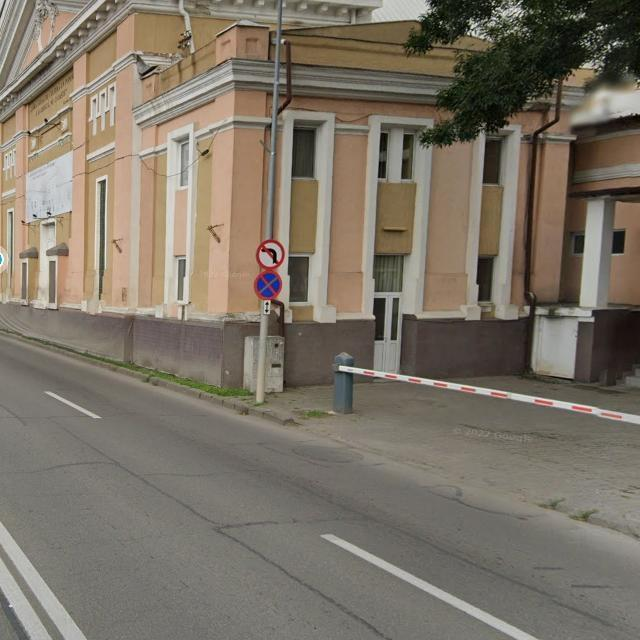forb_waiting: (255, 271, 283, 299)
